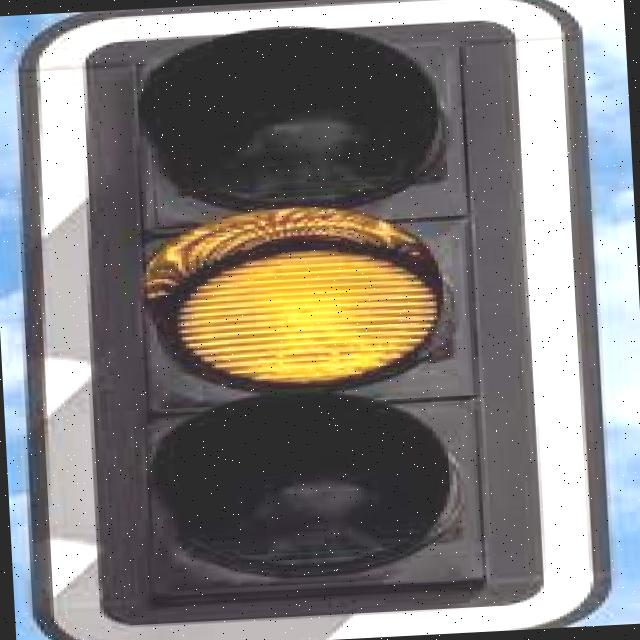yellow_light: (109, 18, 502, 606)
